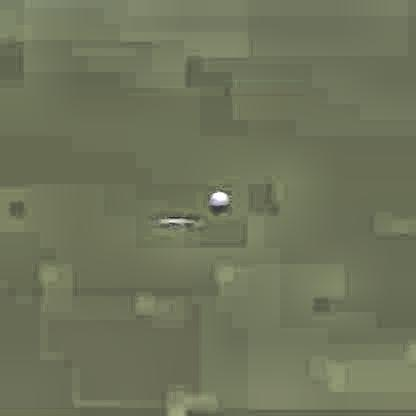golfball: (207, 188, 227, 208)
